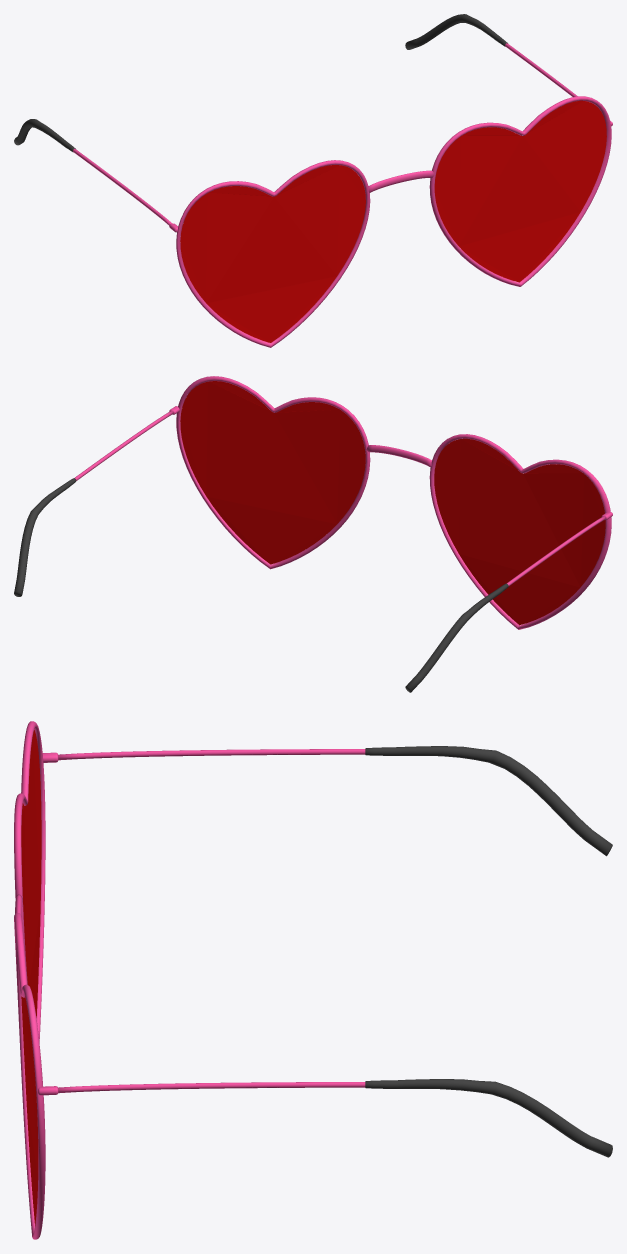
Rendered from Glasses_fab.glb.
3 views of the same model, one above another, from view 1: azimuth 30°, elevation 25°; view 2: azimuth 150°, elevation 25°; view 3: azimuth 270°, elevation 25° (orthographic). The views are drawn at different scales.
Parts seen in each view (by area): view 1: Object_8; view 2: Object_8; view 3: Object_8.
Boxes of the visible parts, x1,y1,x2,y2 form: Object_8: [14, 14, 612, 347]; Object_8: [14, 376, 612, 692]; Object_8: [14, 721, 612, 1239].
Size of the model in its own units: 2.18 by 0.8469 by 1.63.
5 materials, 1 textured.
